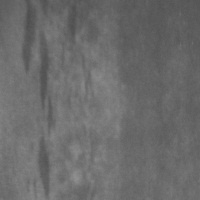inclusion: (17, 1, 56, 181), (28, 133, 55, 200), (60, 2, 85, 54)
